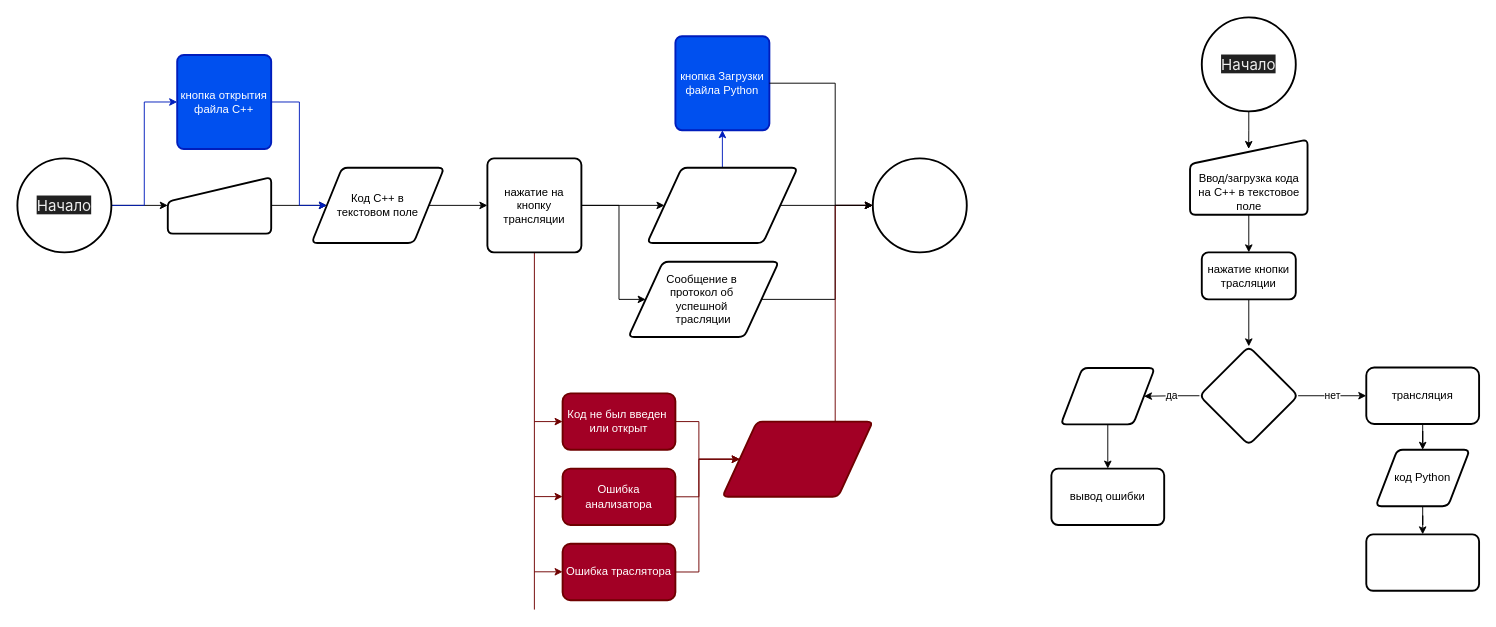
This 1496x627 diagram has some shape labels left out. The centre of each missing label's shape, as x and y in pixels:
Ввод кода на С++ в текстовое поле: point 219,205
вывод кода: point 1422,562
Конец: point 919,205
ошибка: point 1107,396
проверка кода: point 1248,395
Сообщение в протокол об ошибке трасляции: point 797,458
Транслируемый код Python в текстовом поле: point 722,204
